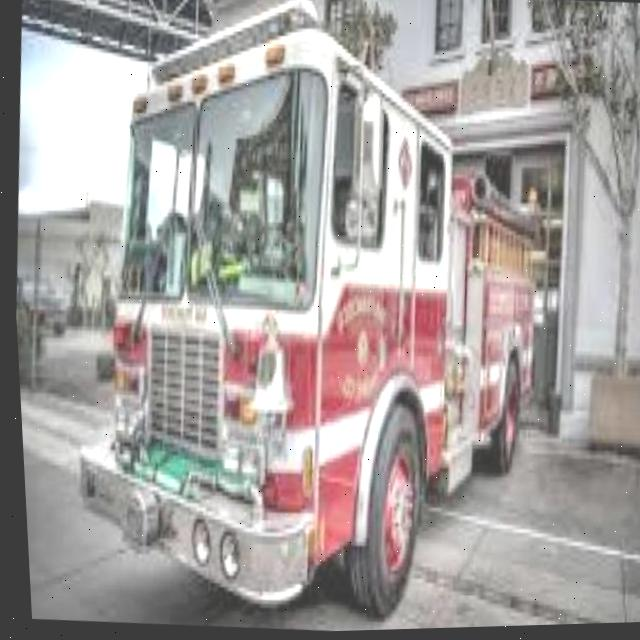emergency: (43, 0, 572, 636)
